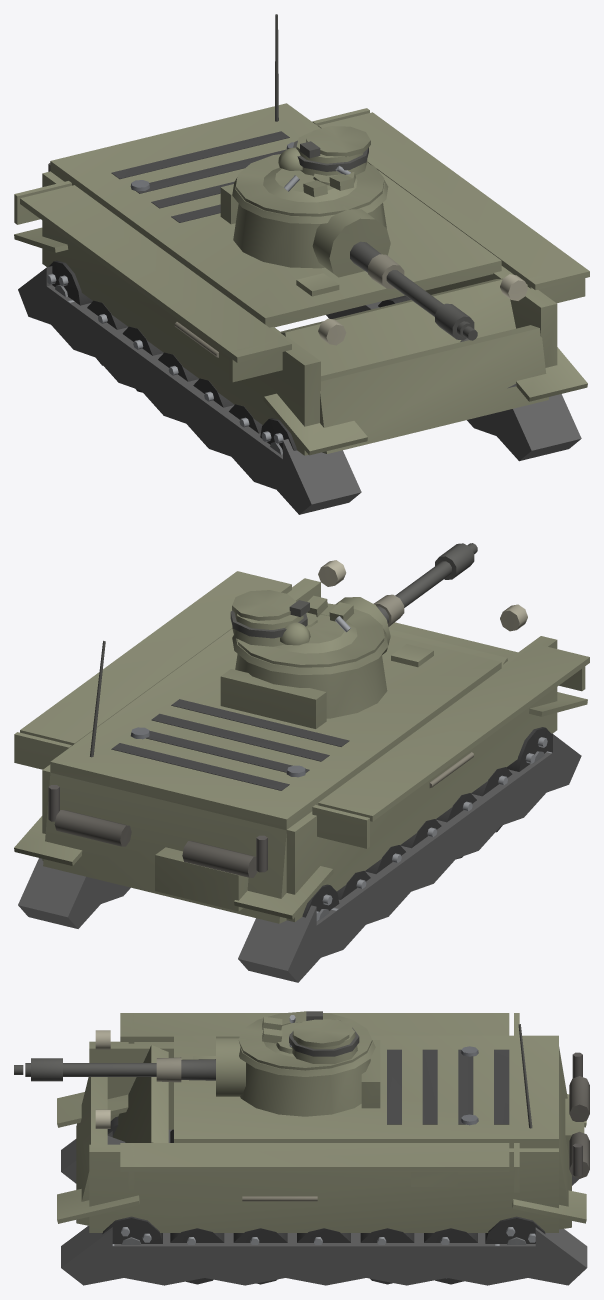
Rendered from m24chaffee.glb.
3 views of the same model, one above another, from view 1: azimuth 30°, elevation 25°; view 2: azimuth 150°, elevation 25°; view 3: azimuth 270°, elevation 25° (orthographic). The views are drawn at different scales.
Visible parts, largest first — view 1: hullSide, hullTop, tracks, lowerPlate, glacis, turretRoof, turretFront, mantlet, barrel, turretSide, wheel6, wheel5; view 2: hullSide, hullTop, tracks, hullRear, turretRoof, turretRear, turretFront, barrel, glacis, turretSide, lowerPlate, wheel5 (+2 smaller); view 3: hullSide, hullTop, tracks, turretRoof, turretFront, hullRear, barrel, glacis, lowerPlate, mantlet, wheel13, wheel12 (+7 smaller).
Boxes of the visible parts, box(x1,y1,x2,y2) form: hullSide: box(14, 108, 589, 455); hullTop: box(50, 103, 501, 327); tracks: box(14, 227, 587, 514); lowerPlate: box(320, 325, 548, 453); glacis: box(280, 273, 516, 388); turretRoof: box(236, 126, 384, 216); turretFront: box(233, 203, 386, 268); mantlet: box(312, 206, 390, 277); barrel: box(350, 241, 477, 340); turretSide: box(232, 177, 388, 223); wheel6: box(47, 260, 92, 305); wheel5: box(260, 418, 296, 458); hullSide: box(14, 560, 589, 921); hullTop: box(50, 629, 501, 829); tracks: box(14, 692, 587, 982); hullRear: box(43, 640, 288, 923); turretRoof: box(230, 590, 384, 667); turretRear: box(220, 669, 326, 728); turretFront: box(235, 654, 387, 718); barrel: box(373, 543, 477, 626); glacis: box(389, 629, 507, 667); turretSide: box(232, 628, 388, 674); lowerPlate: box(388, 622, 517, 659); wheel5: box(506, 727, 551, 771); hullSide: box(89, 1013, 558, 1232); hullTop: box(174, 1035, 558, 1148); tracks: box(57, 1092, 587, 1285); turretRoof: box(238, 1011, 372, 1070); turretFront: box(240, 1059, 370, 1116); hullRear: box(518, 1024, 589, 1229); barrel: box(14, 1057, 215, 1082); glacis: box(107, 1045, 215, 1144); lowerPlate: box(76, 1077, 107, 1225); mantlet: box(216, 1036, 245, 1096); wheel13: box(485, 1216, 545, 1246); wheel12: box(102, 1216, 162, 1246).
Size of the model in its own units: 3.88 by 2.85 by 6.13.
